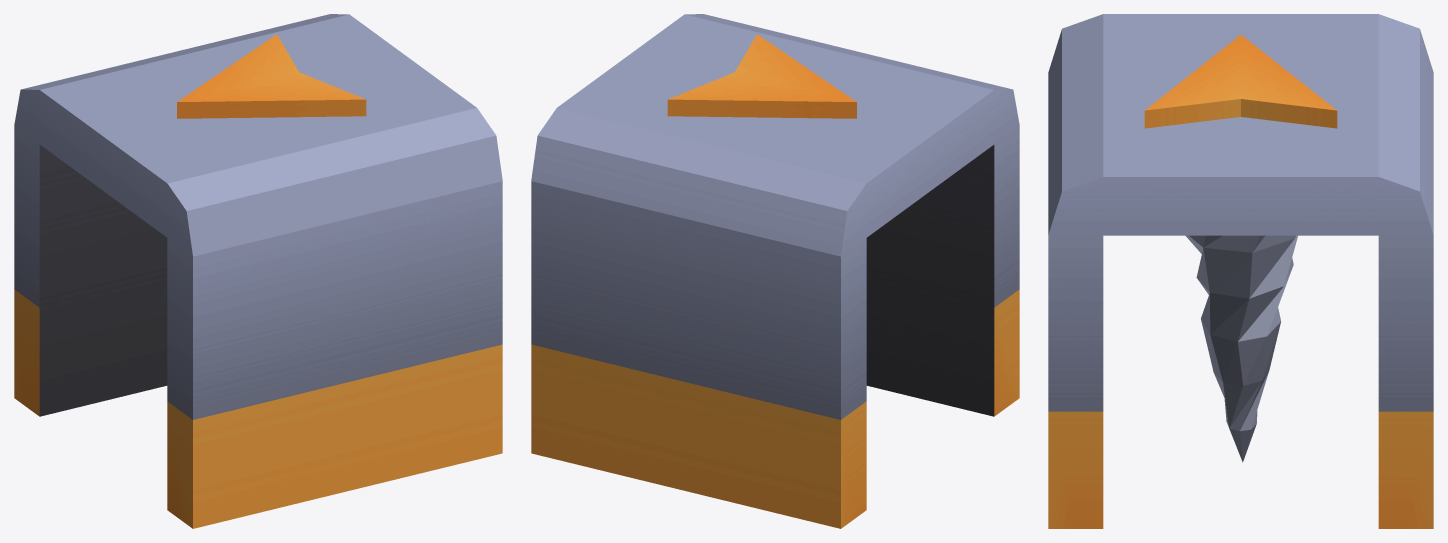
Rendered from miner.glb.
3 renders of one model, left to right at view 1: azimuth 30°, elevation 25°; view 2: azimuth 150°, elevation 25°; view 3: azimuth 270°, elevation 25°, orthographic. The views are drawn at different scales.
Visible parts, largest first — view 1: drill; view 2: drill; view 3: drill.
Part boxes in pixels (left/top/right/bottom): drill: left=14, top=14, right=502, bottom=528; drill: left=531, top=14, right=1019, bottom=528; drill: left=1048, top=14, right=1433, bottom=528.
Bounding box in the file's own units: 1 × 1.1 × 1.
Materials: 1 (1 with a texture image).
